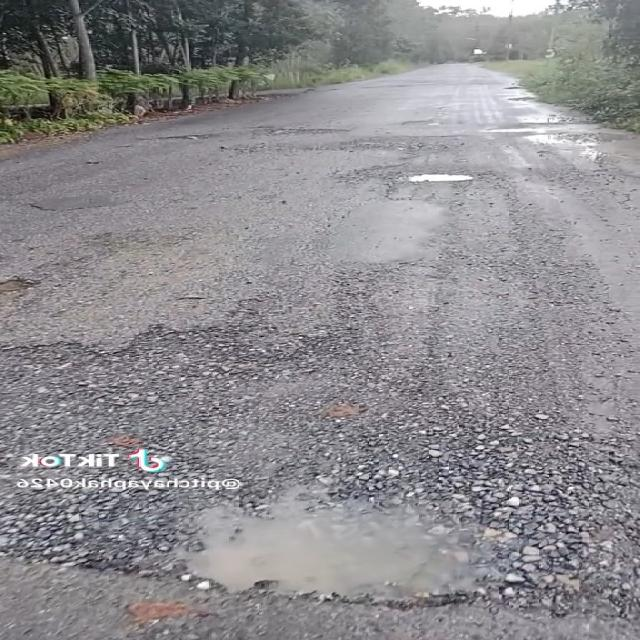Poth-hole: (56, 426, 640, 640), (299, 159, 473, 213)
